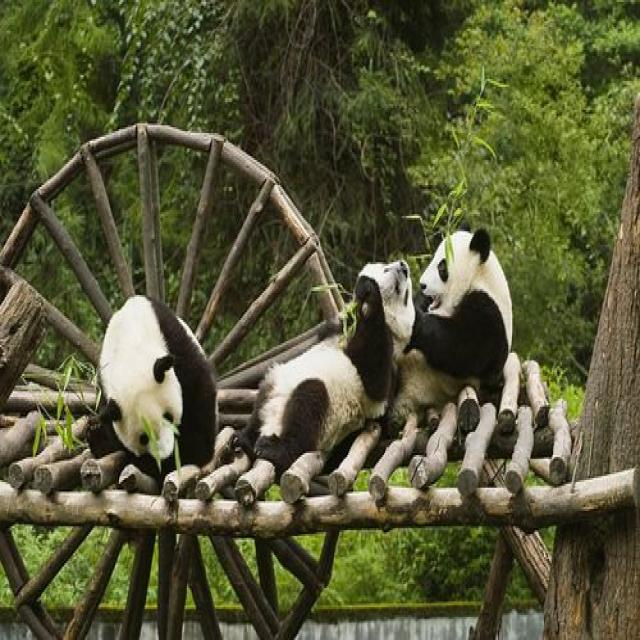panda: (250, 206, 538, 495), (84, 253, 229, 507)
